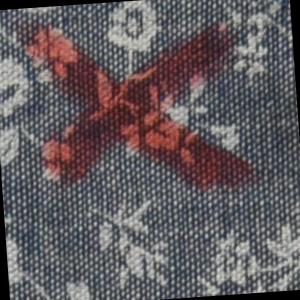Stain: (8, 1, 276, 214)
